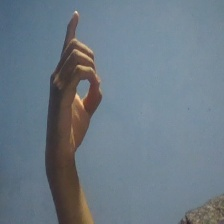D: (43, 10, 105, 159)
